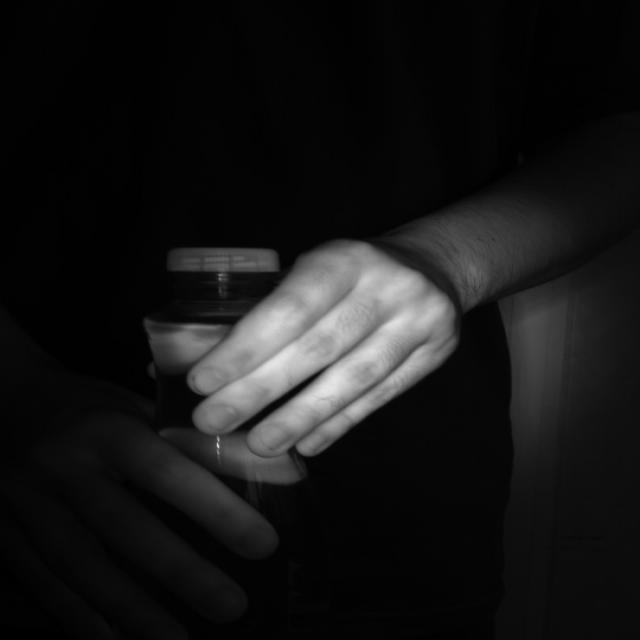Not Good: (166, 248, 280, 290)
